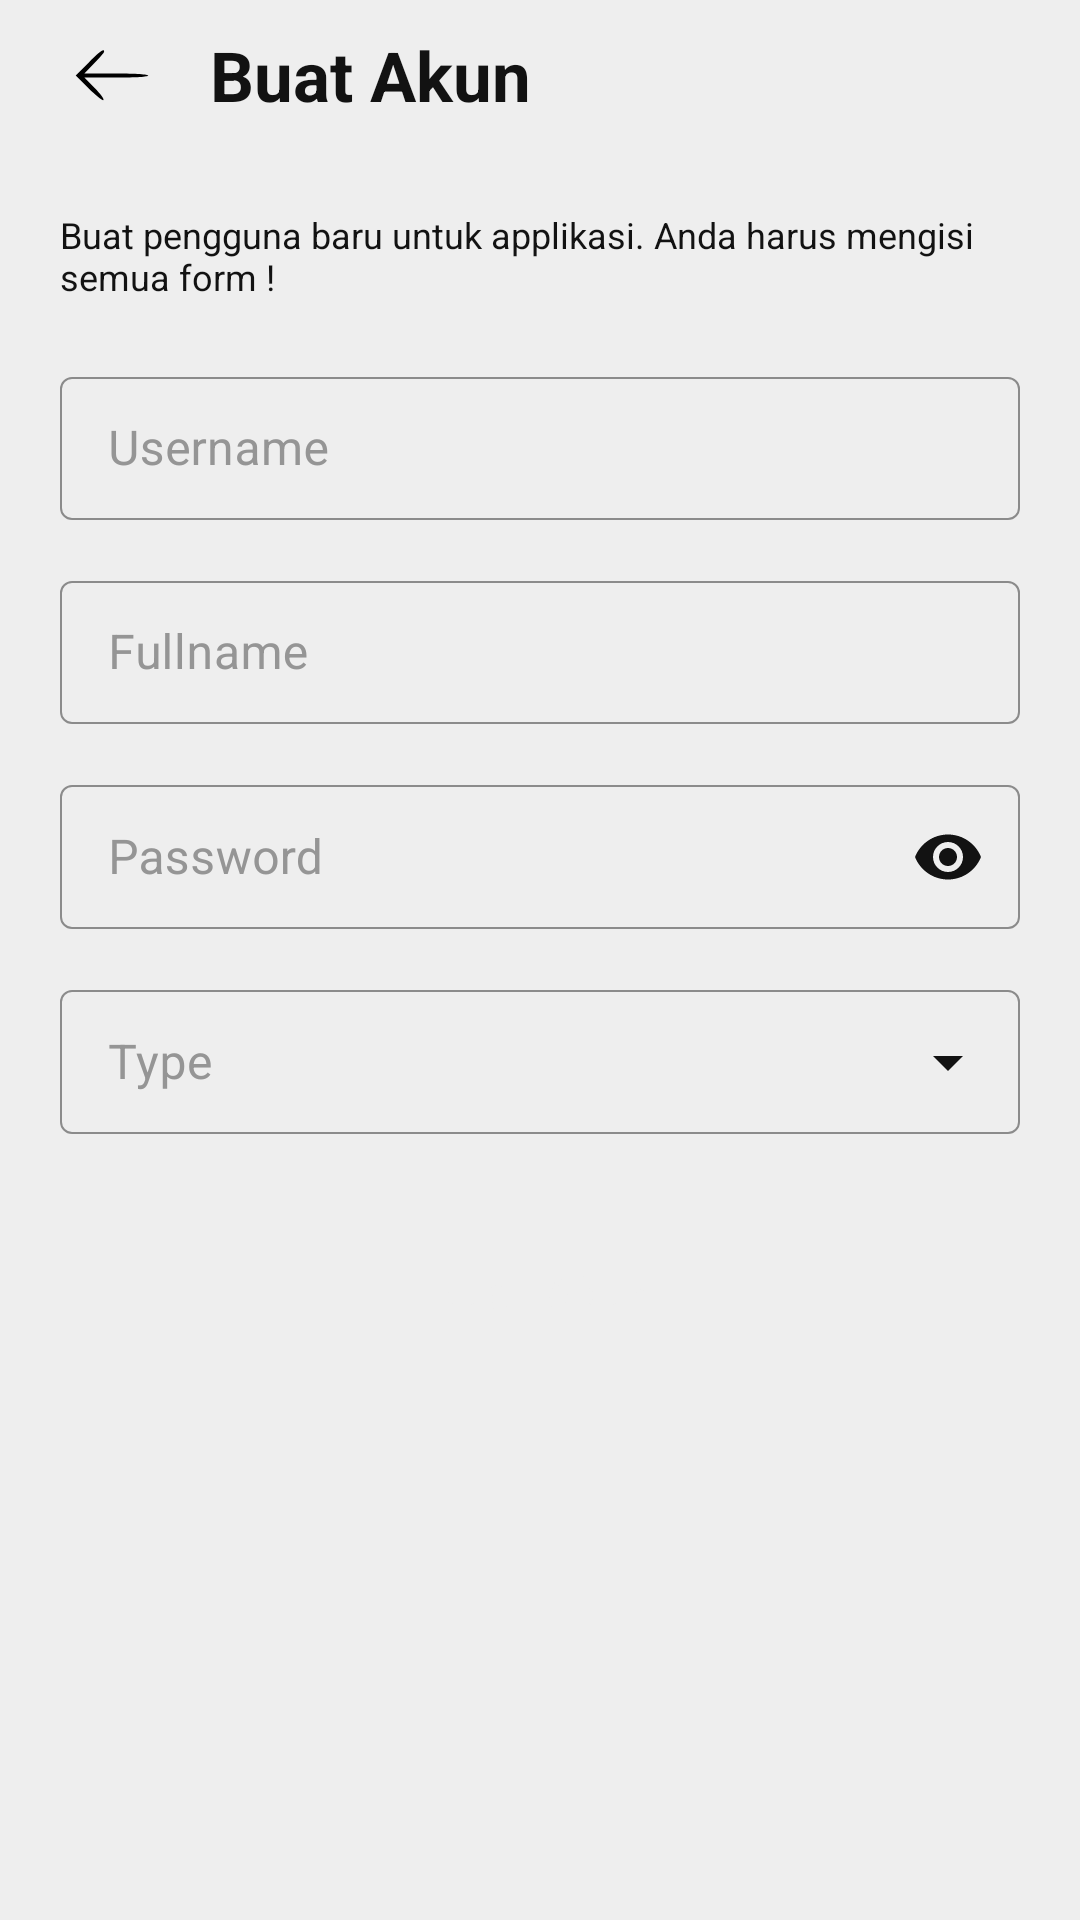

Screen size 1080w x 1920h. Icon name, then its box in pixels as (x1, y1, x2, y2):
arrow left: (76, 50, 148, 100)
